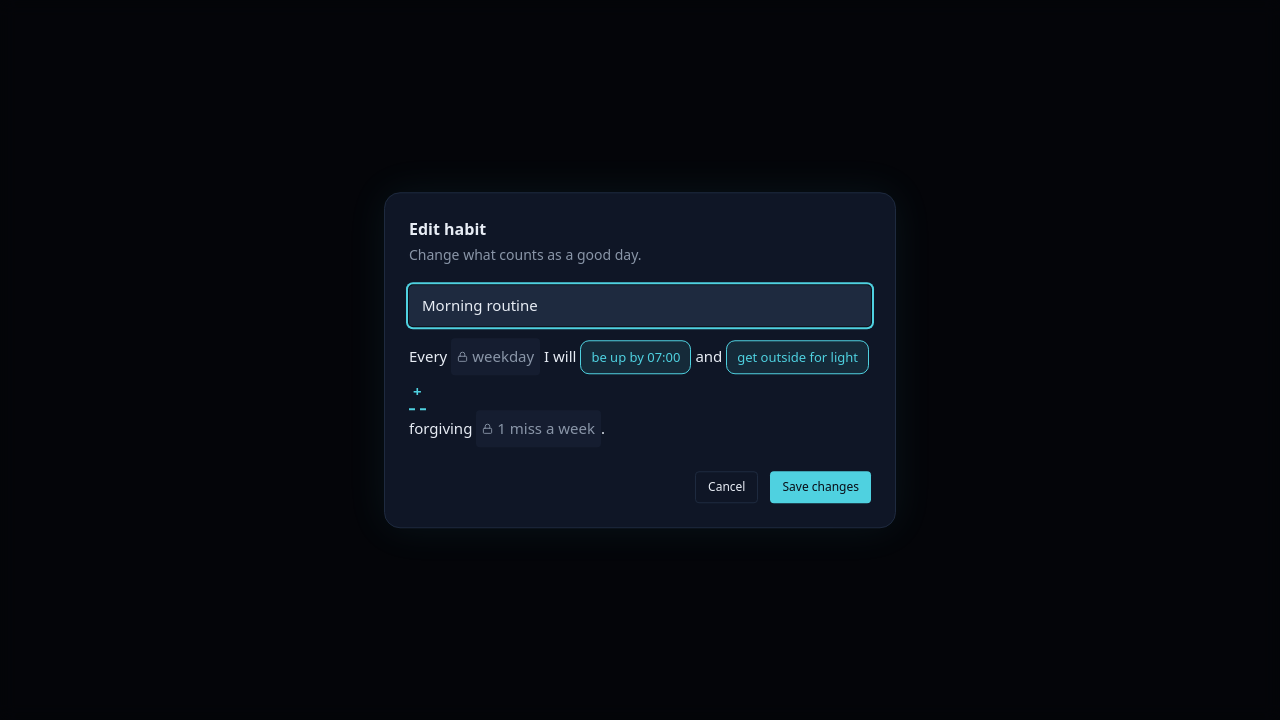
EditHabitDialog — the locked cadence › explains itself on click, naming the days at stake and what can be changed instead
The image size is (1280, 720).
What coordinates should you click on to do the following:
click the button with aria-label "Locked: Allowance: 1 miss a week"
I would click on:
 (539, 428)
Its box is [476,410,601,447].
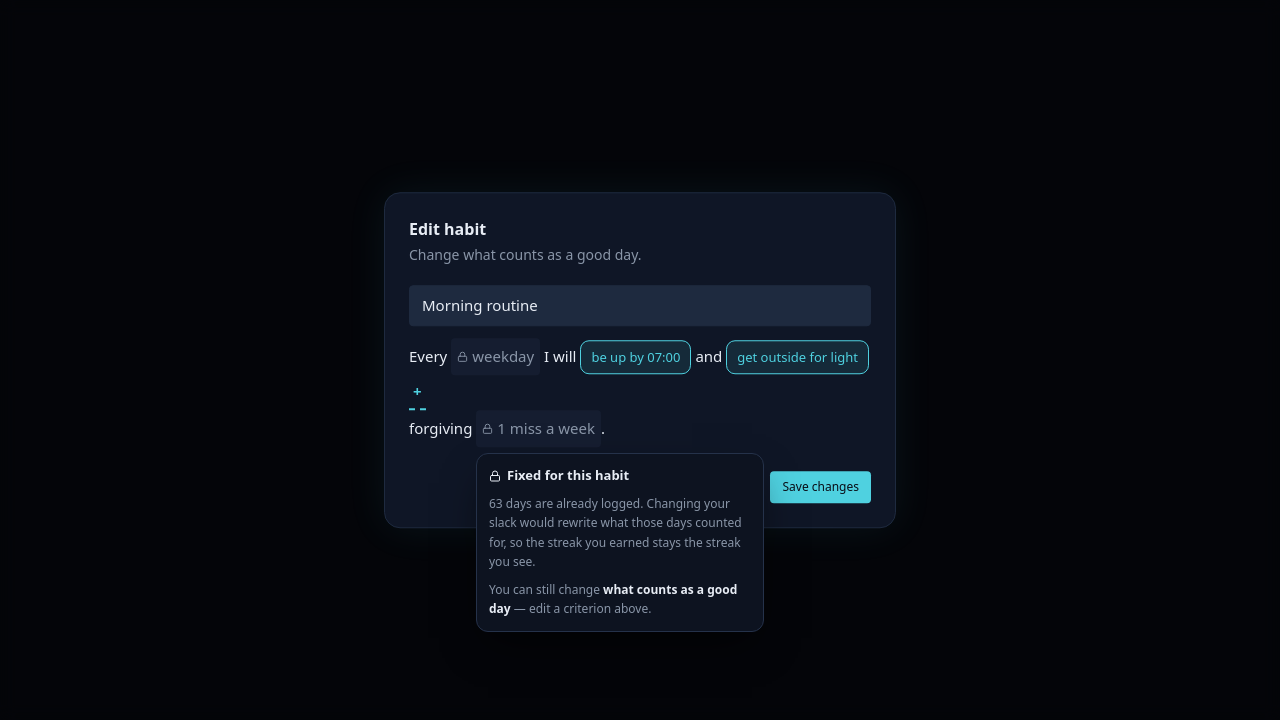
Expected: the text "Fixed for this habit" is shown, [489,466,629,484]
Expected: the text "63 days are already logged. Changing your slack would rewrite" is shown, [489,494,742,570]
Expected: the text "You can still change" is shown, [489,580,600,598]
